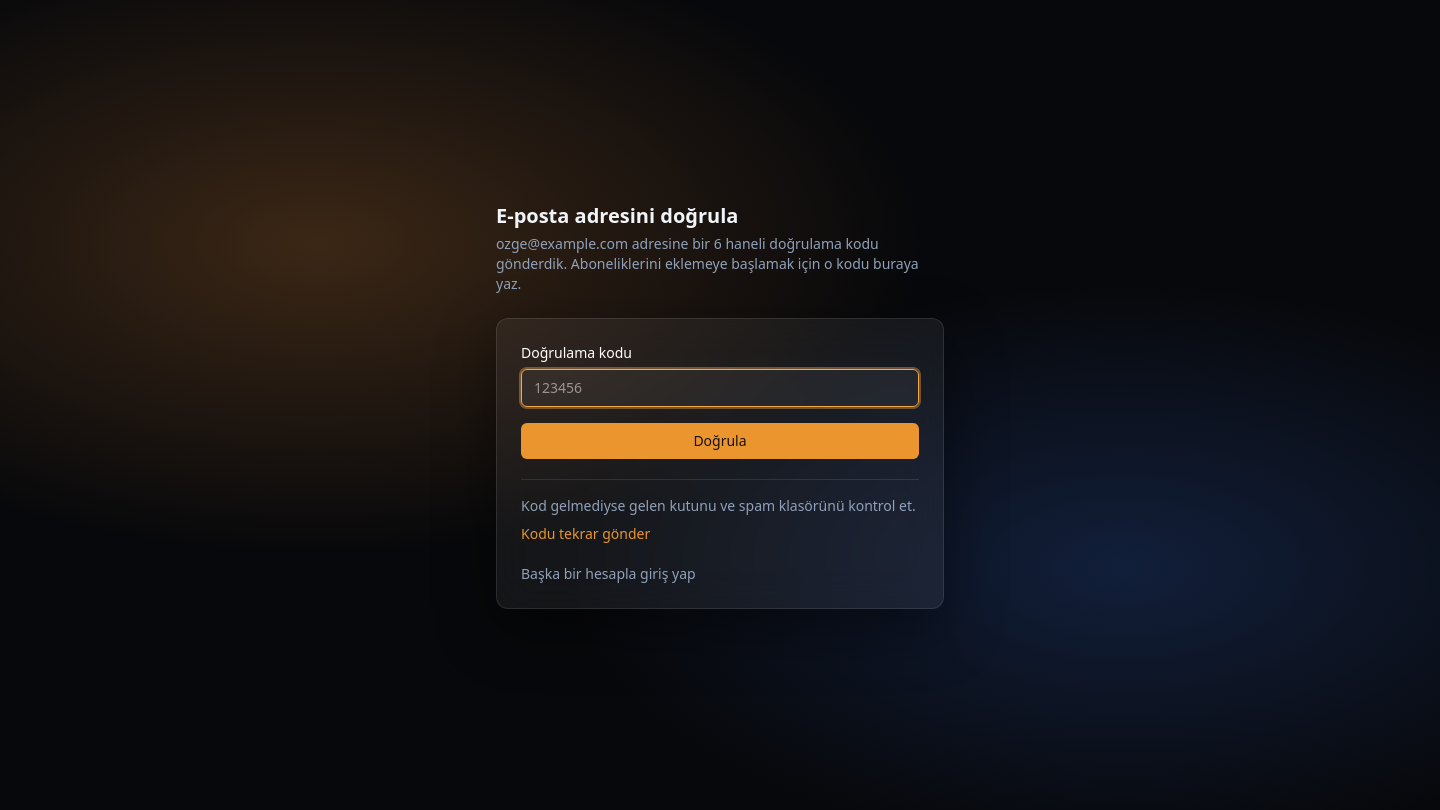
Scenario: doğrulanmamış kullanıcı › boş kod göndermiyor
The width and height of the screenshot is (1440, 810).
Expected: the heading "E-posta adresini doğrula" is shown, [496,202,738,228]
Click the button "Doğrula" at (720, 440), box [521,422,919,458]
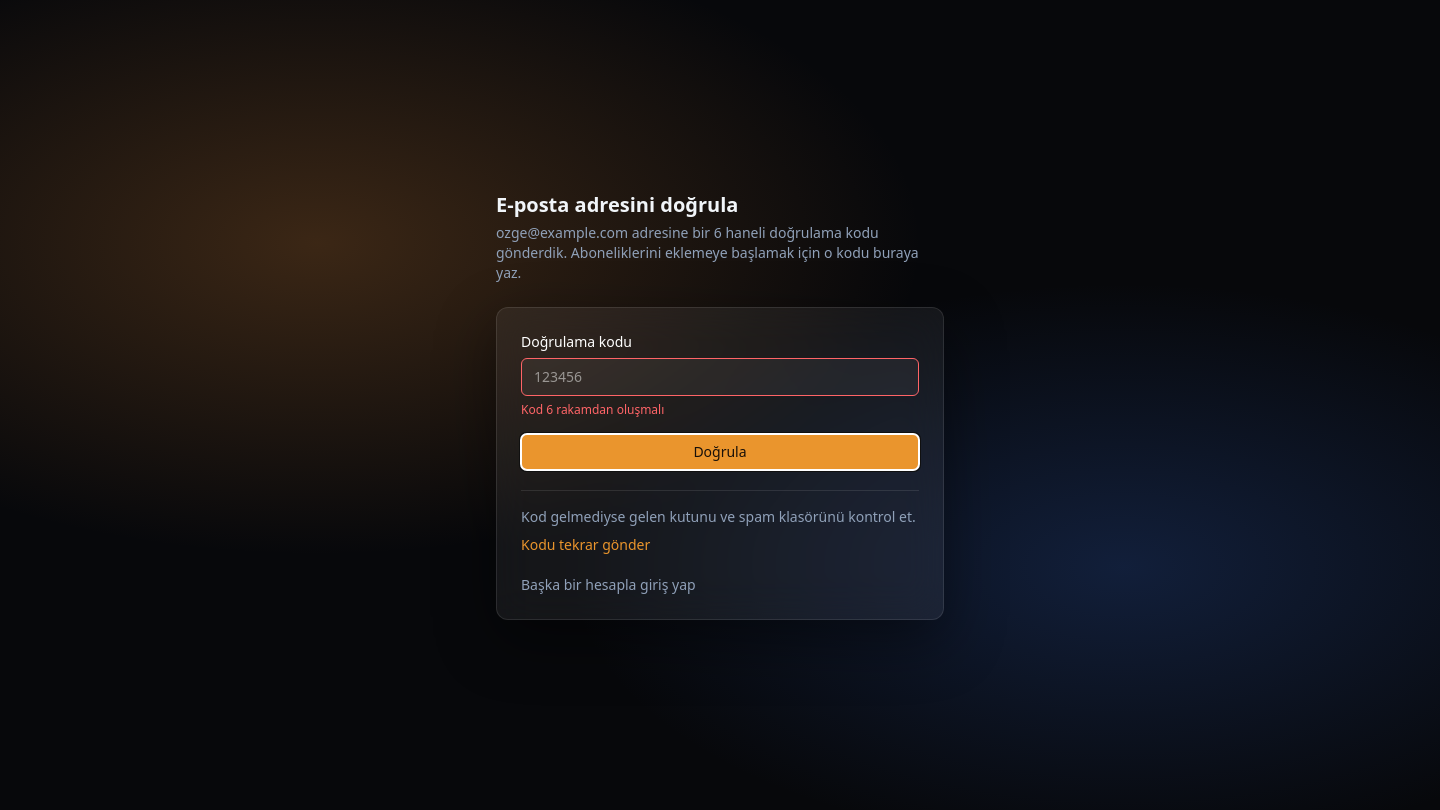
Result: the text "Kod 6 rakamdan oluşmalı" is shown at [521,400,664,418]
